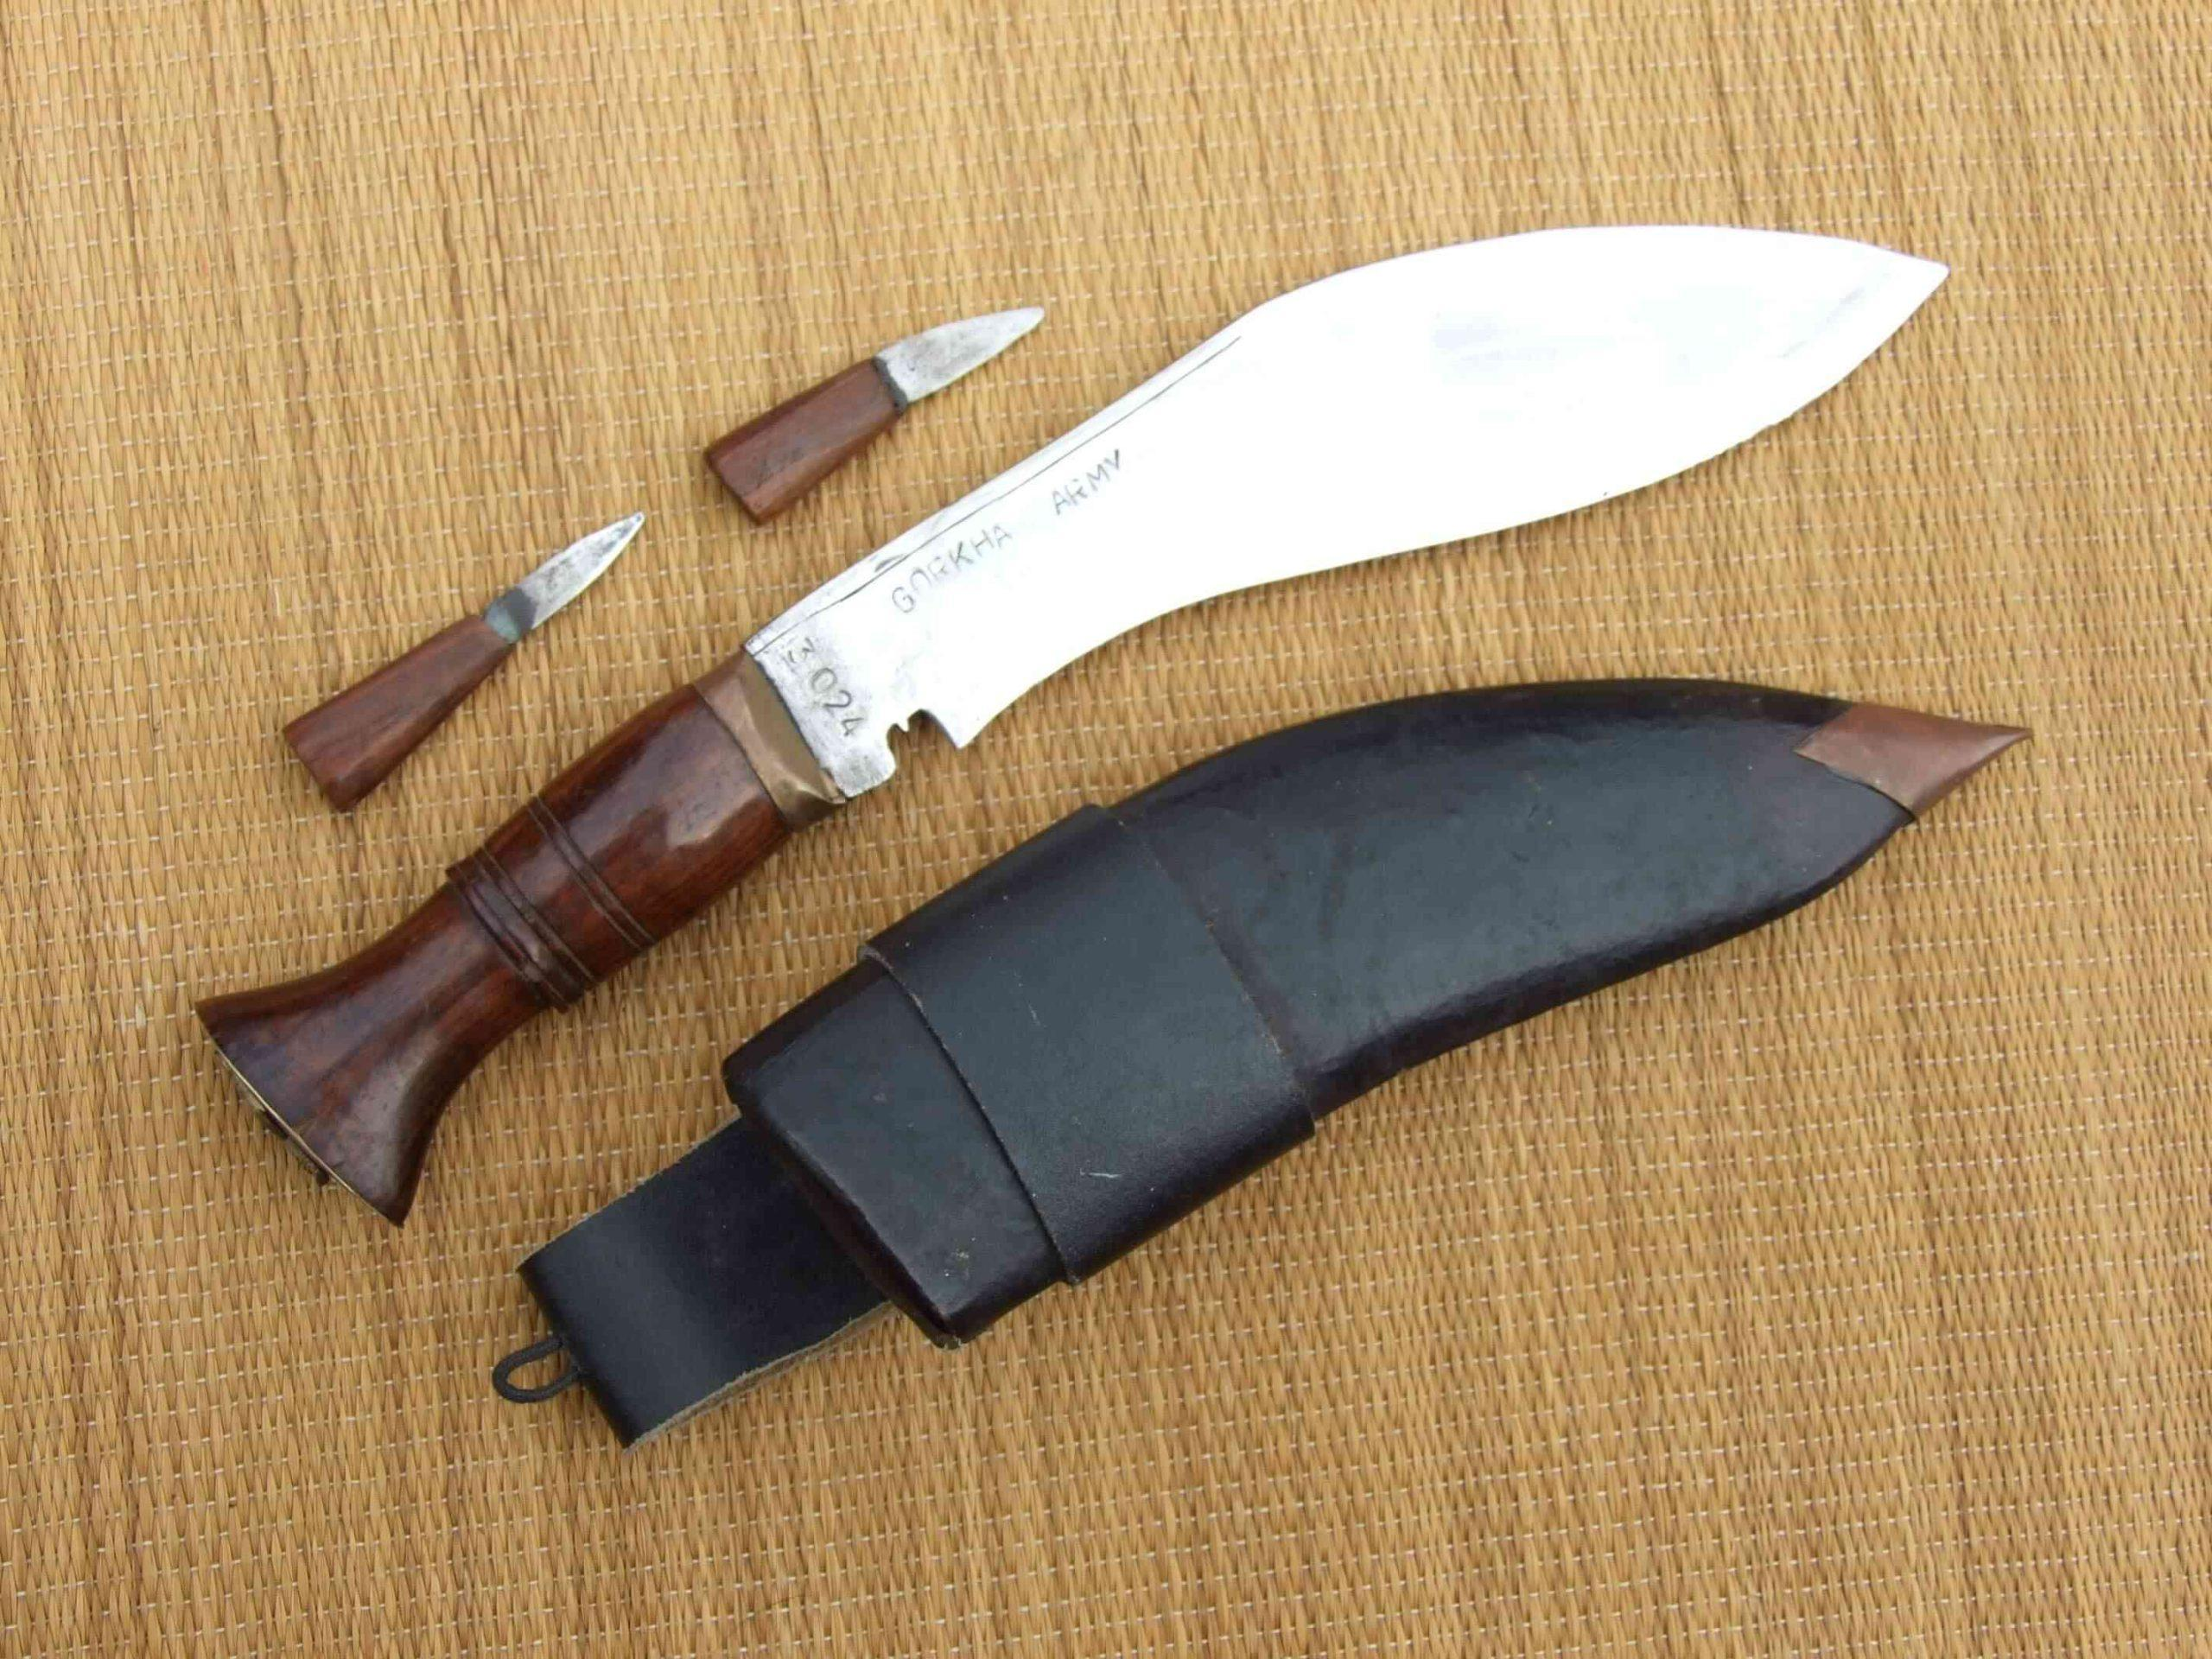faca: (199, 227, 1946, 1216), (287, 516, 641, 810), (707, 307, 1043, 519)
